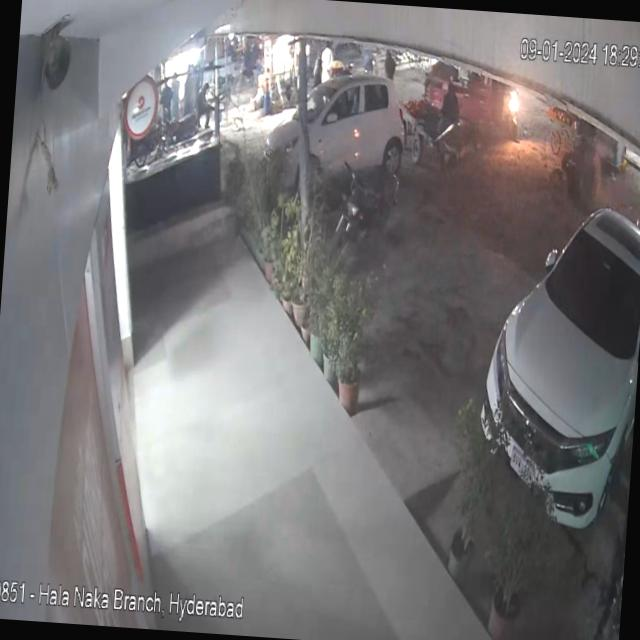Car: (471, 181, 640, 550), (261, 70, 426, 204)
Motorcycle: (322, 148, 399, 266)
